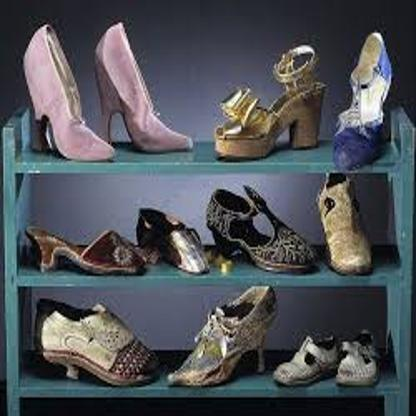not trash: (204, 41, 326, 158), (21, 22, 118, 162), (30, 298, 158, 386), (206, 189, 318, 277), (170, 286, 264, 384), (24, 212, 145, 277), (312, 172, 388, 274), (337, 32, 394, 166), (133, 194, 206, 280), (274, 326, 336, 388), (334, 330, 382, 390)
